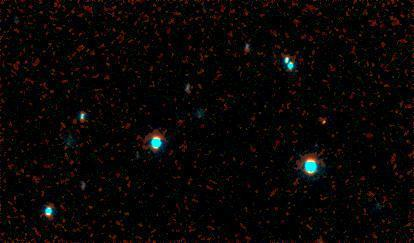star: (307, 106, 337, 136)
